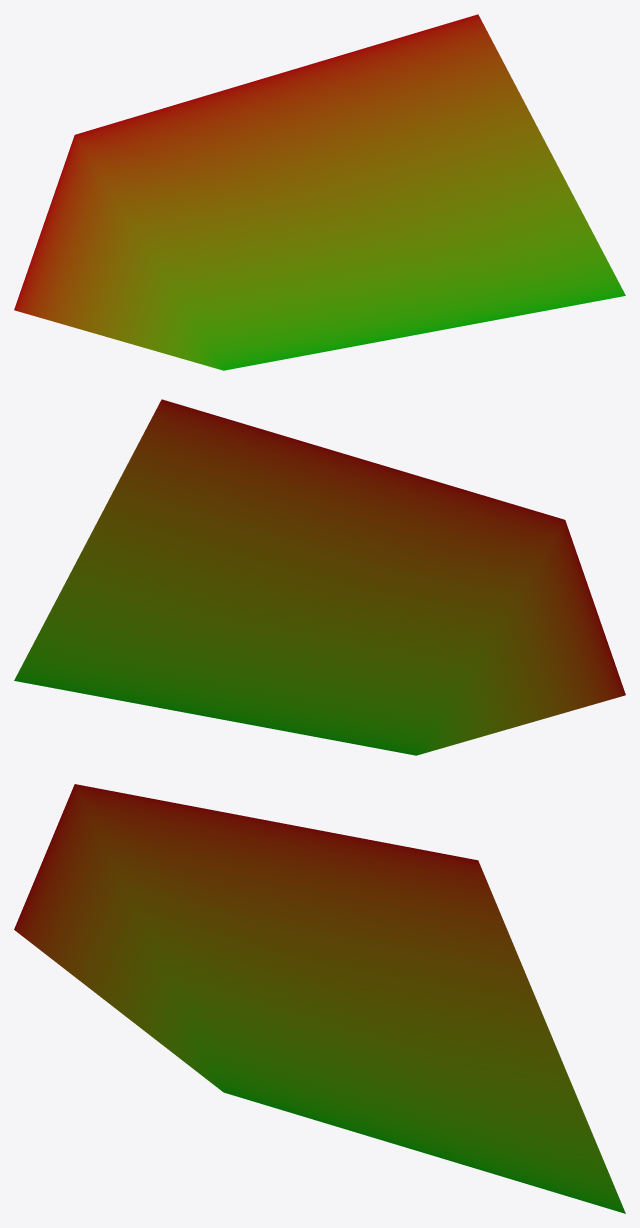
The model's file is Silver Lady Fern_LOD5_Var4_ubolejkia.fbx.
3 renders of one model, top to bottom at view 1: azimuth 30°, elevation 25°; view 2: azimuth 150°, elevation 25°; view 3: azimuth 330°, elevation 25°, orthographic.
Visible parts, largest first — view 1: _85dc_Var4_LOD5; view 2: _85dc_Var4_LOD5; view 3: _85dc_Var4_LOD5.
Part boxes in pixels (x1,y1,x2,y2): _85dc_Var4_LOD5: [14, 14, 625, 370]; _85dc_Var4_LOD5: [14, 399, 625, 755]; _85dc_Var4_LOD5: [14, 784, 625, 1213].
Size of the model in its own units: 151 by 74.71 by 1.22e-05.
